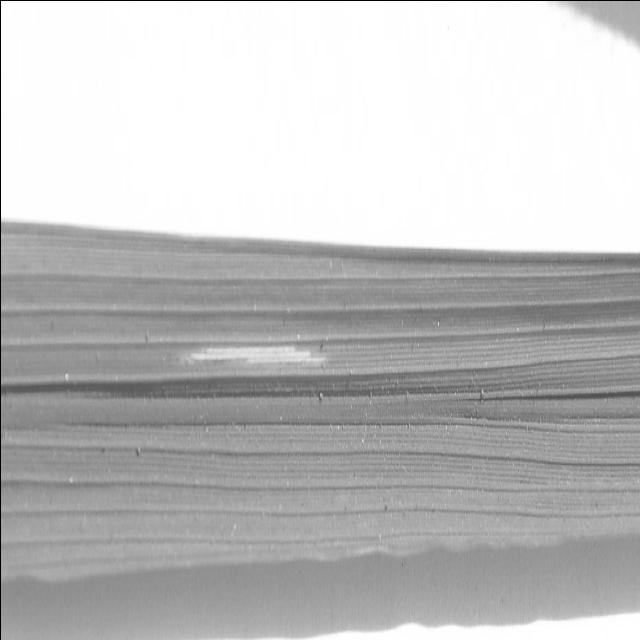Bacterial_Leaf_Blight: (124, 282, 424, 458)
